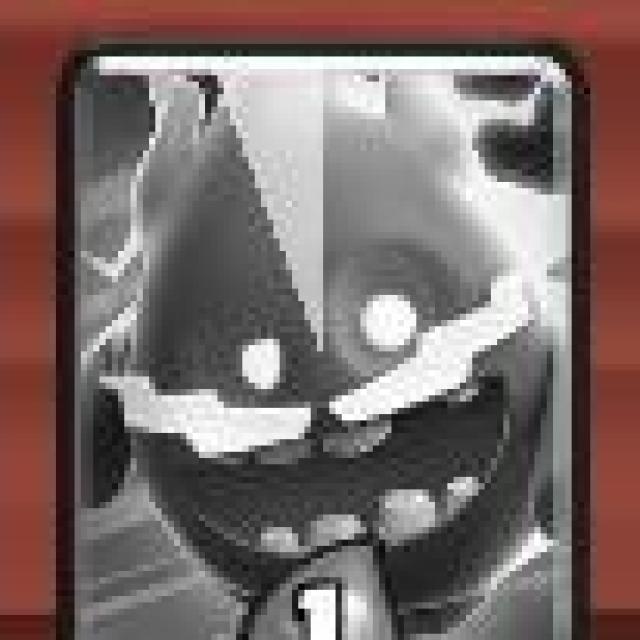Electro_Spirit: (54, 42, 591, 640)
